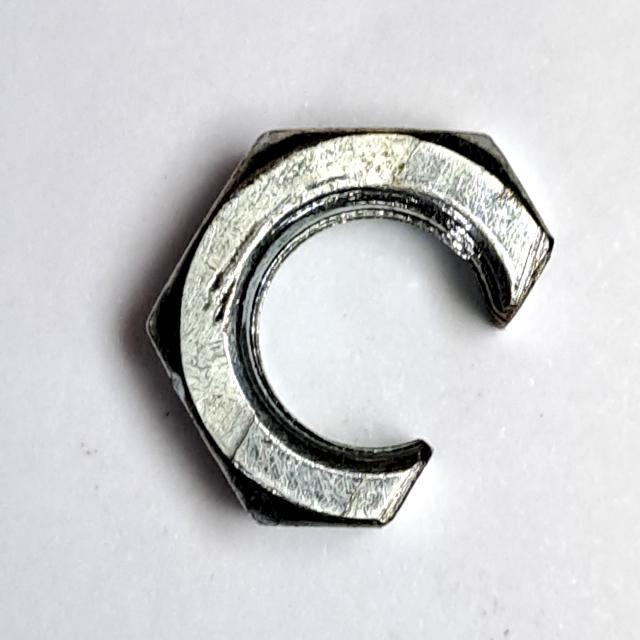Fracture: (134, 107, 569, 547)
